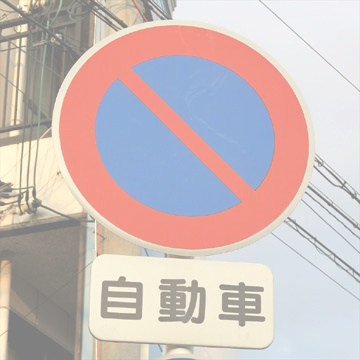Prohibition_sign: (53, 16, 325, 262)
